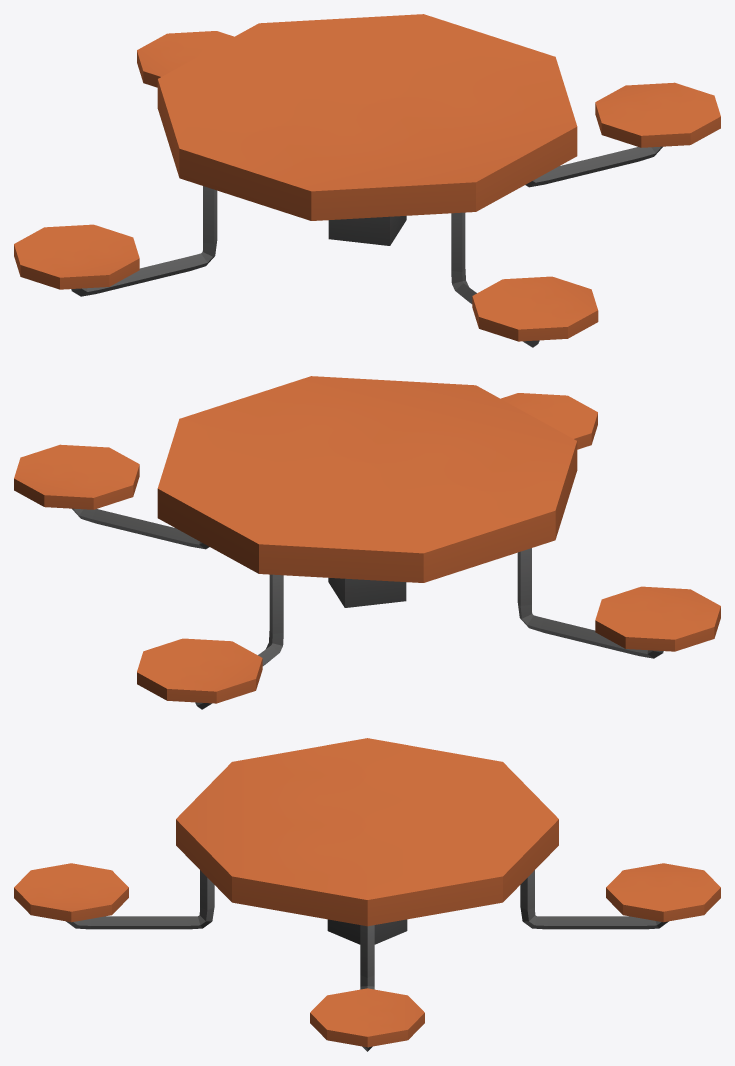
The model's file is MesaLanche.fbx.
The picture shows the model from 3 angles, top to bottom: view 1: azimuth 30°, elevation 25°; view 2: azimuth 150°, elevation 25°; view 3: azimuth 270°, elevation 25°; orthographic projection. The views are drawn at different scales.
Parts seen in each view (by area): view 1: Cylinder.006; view 2: Cylinder.006; view 3: Cylinder.006.
Boxes of the visible parts, x1,y1,x2,y2 form: Cylinder.006: [14, 14, 720, 347]; Cylinder.006: [14, 376, 720, 709]; Cylinder.006: [14, 738, 720, 1051].
Size of the model in its own units: 292 by 51.09 by 292.
